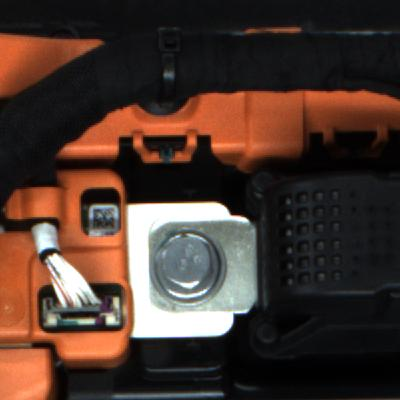nut_b: (148, 227, 234, 307)
